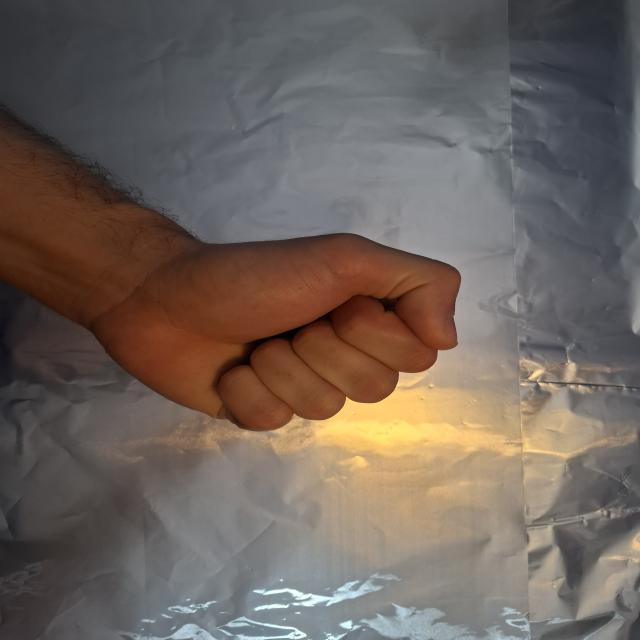glove_off: (76, 227, 463, 434)
